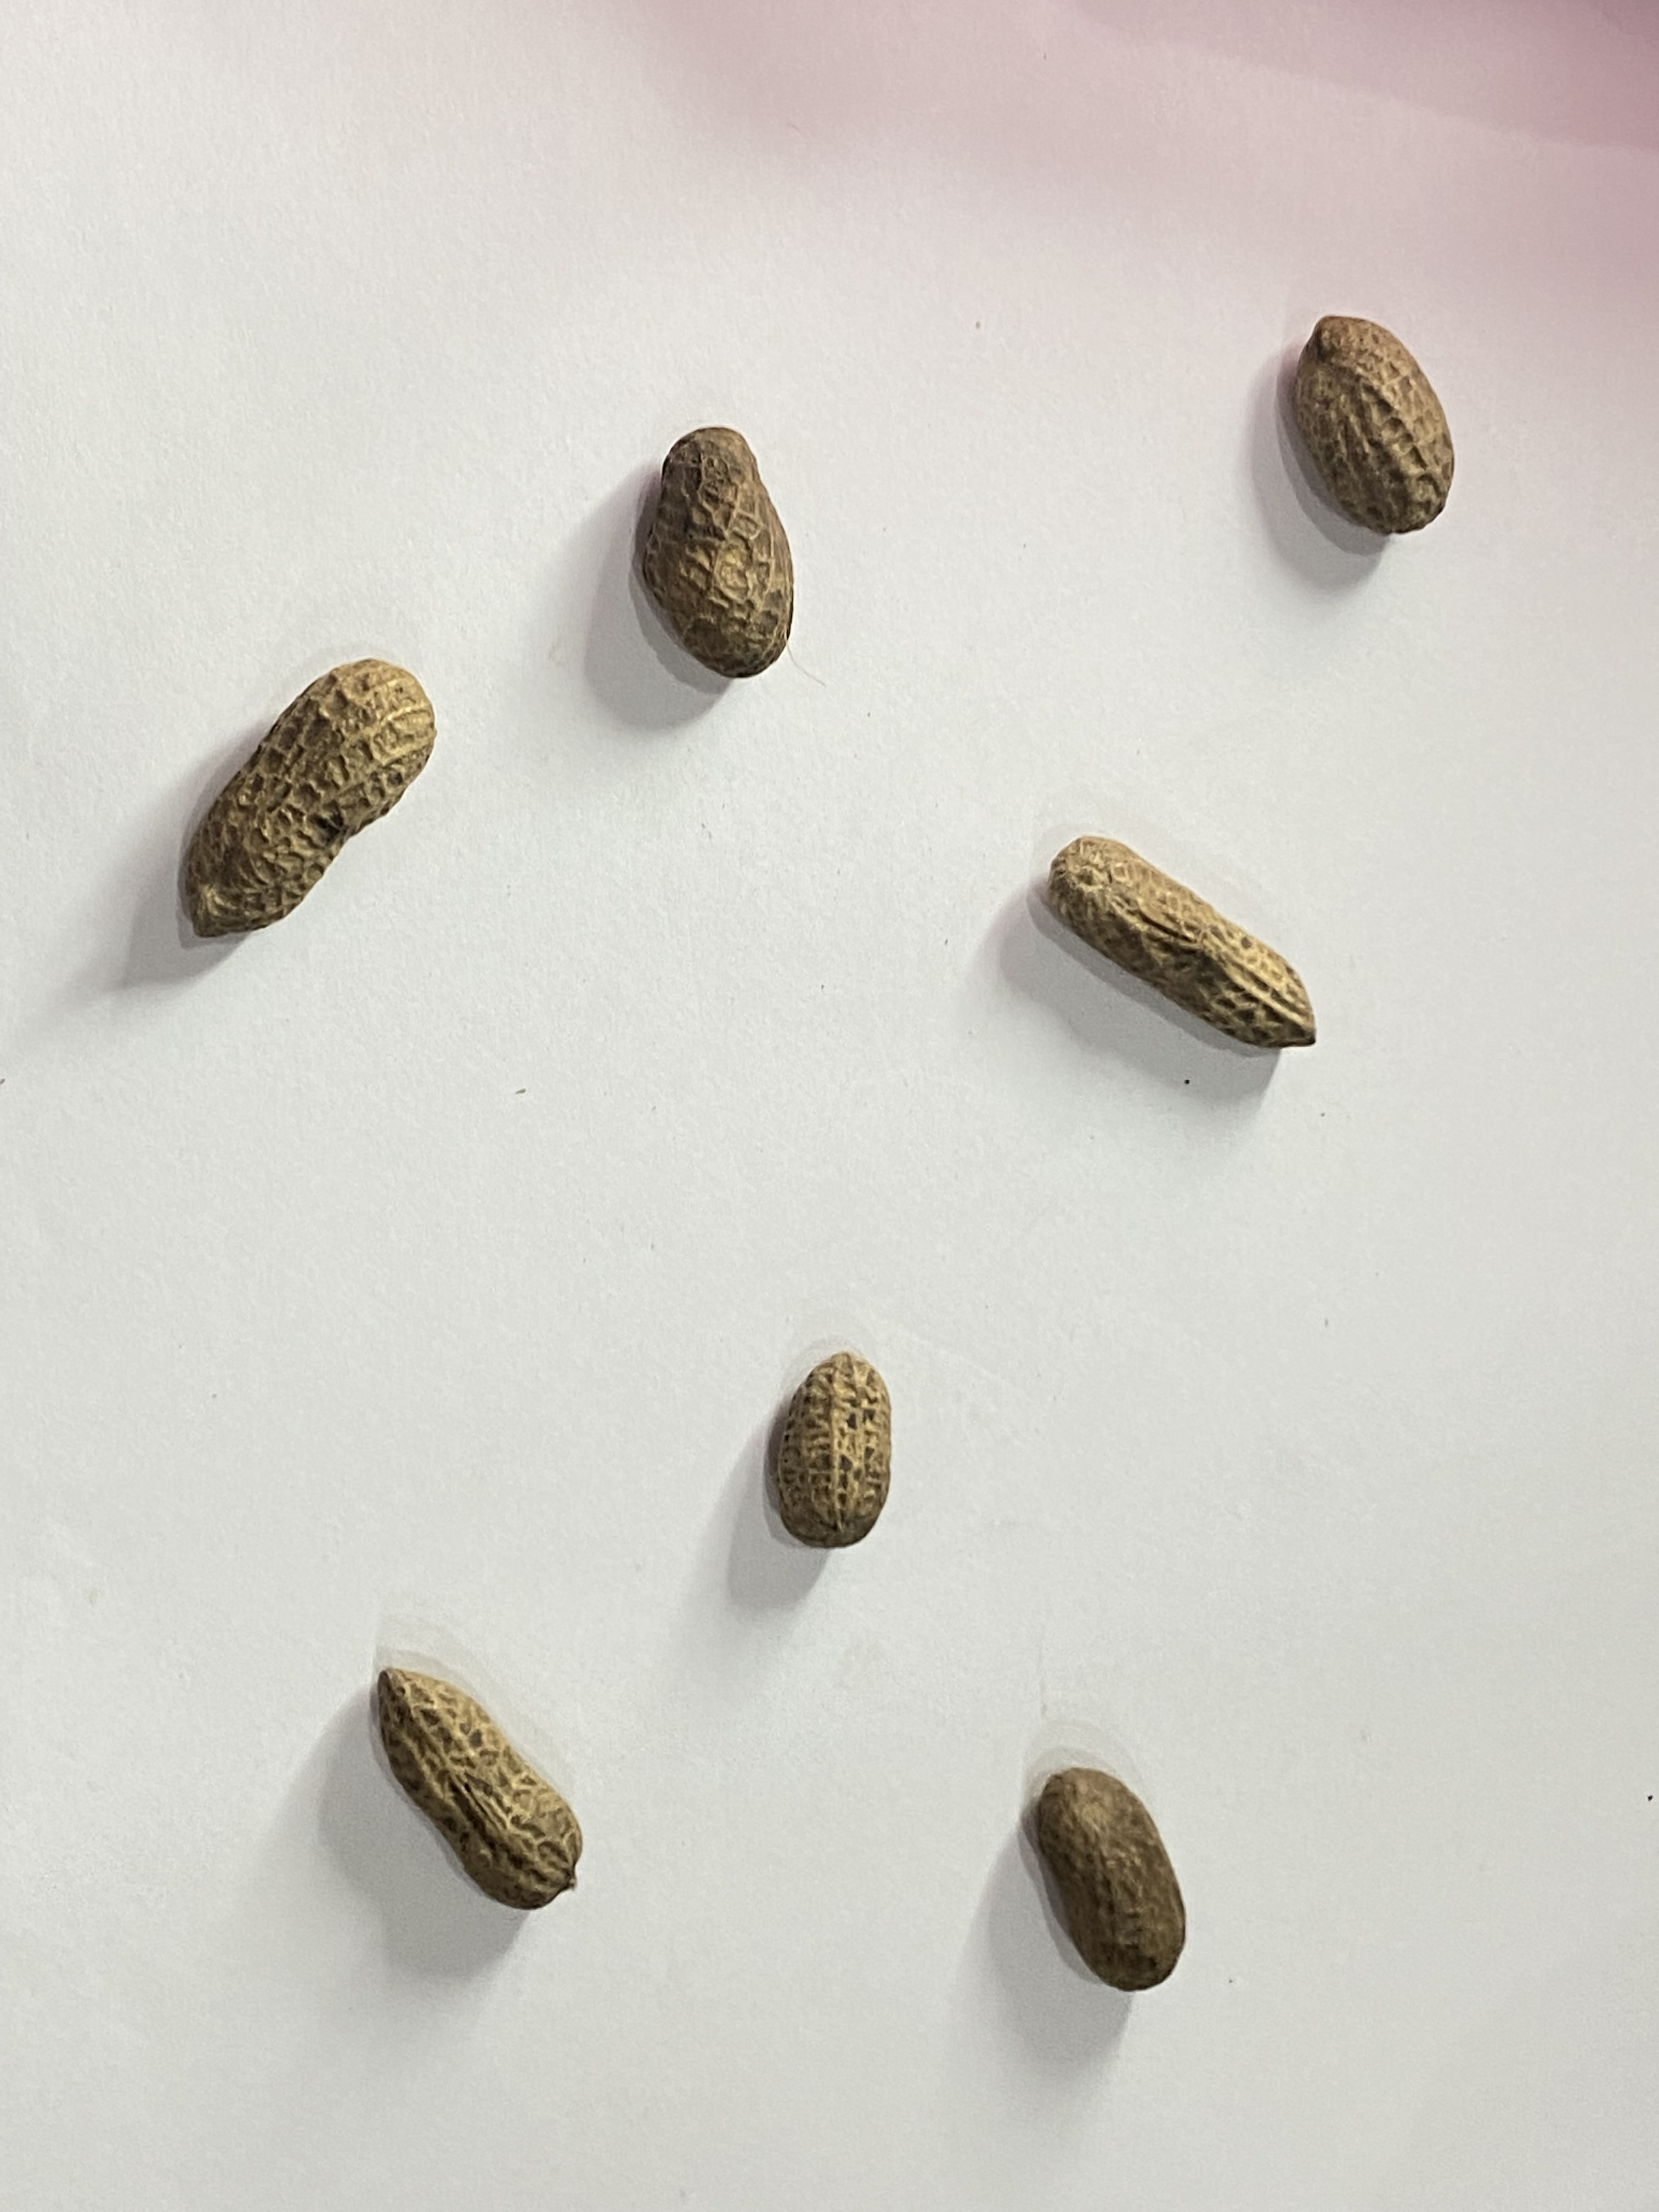kacang1: (1225, 273, 1506, 557), (594, 406, 859, 695), (735, 1315, 945, 1569)
kacang2: (162, 632, 453, 944), (333, 1623, 605, 1928), (999, 1747, 1204, 2015)
kacang3: (978, 805, 1352, 1085)
